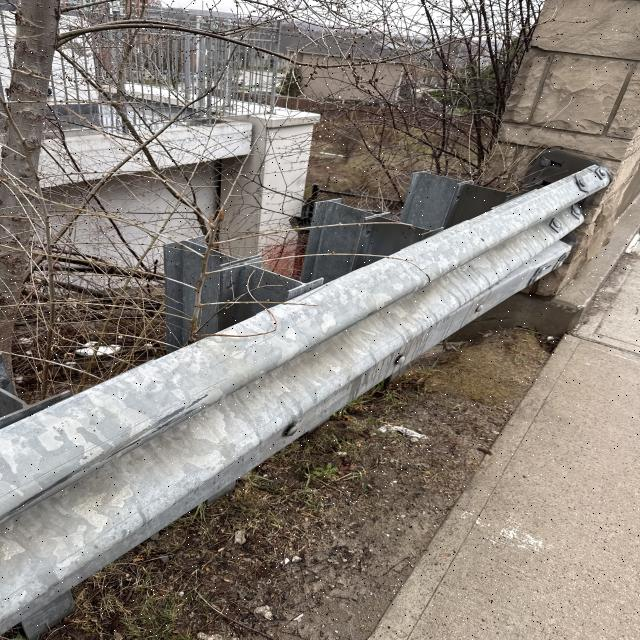Guard rail: (29, 184, 619, 610)
